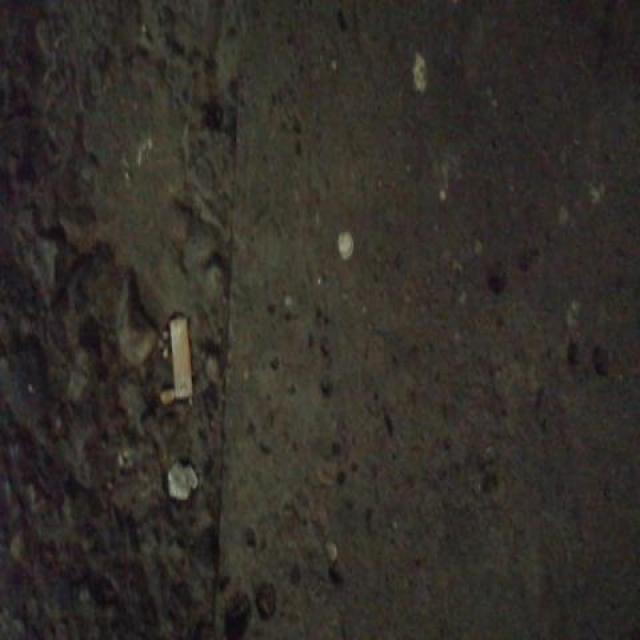non-organic waste: (166, 312, 197, 404)
